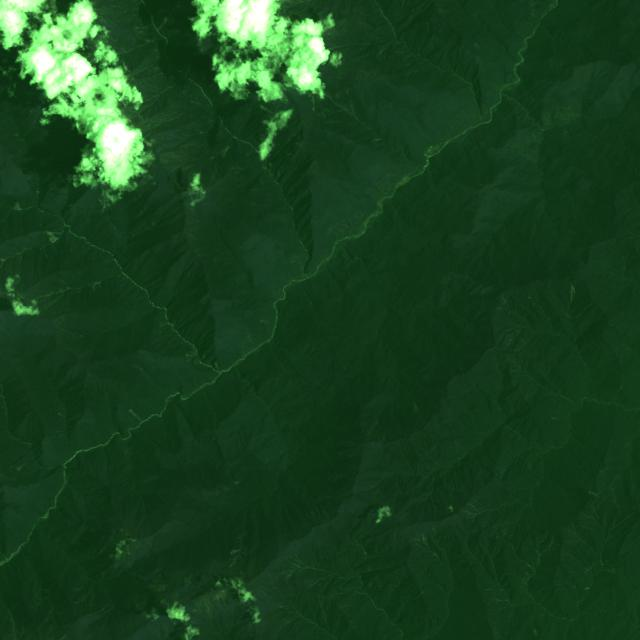landslides: (90, 11, 137, 46), (413, 561, 448, 593), (309, 574, 333, 587), (80, 13, 96, 28), (129, 409, 143, 423), (290, 556, 306, 567), (418, 548, 432, 560), (529, 297, 542, 309), (286, 569, 297, 583), (259, 135, 267, 154), (229, 554, 240, 567), (135, 22, 152, 30), (220, 146, 231, 158), (592, 249, 604, 260), (461, 510, 475, 519), (413, 395, 420, 413), (158, 17, 167, 31), (588, 258, 609, 264), (468, 503, 479, 514), (47, 232, 59, 242), (614, 387, 622, 402), (414, 541, 429, 549), (502, 297, 511, 310), (61, 280, 72, 290), (278, 563, 296, 569), (185, 354, 198, 362), (104, 380, 109, 400)
